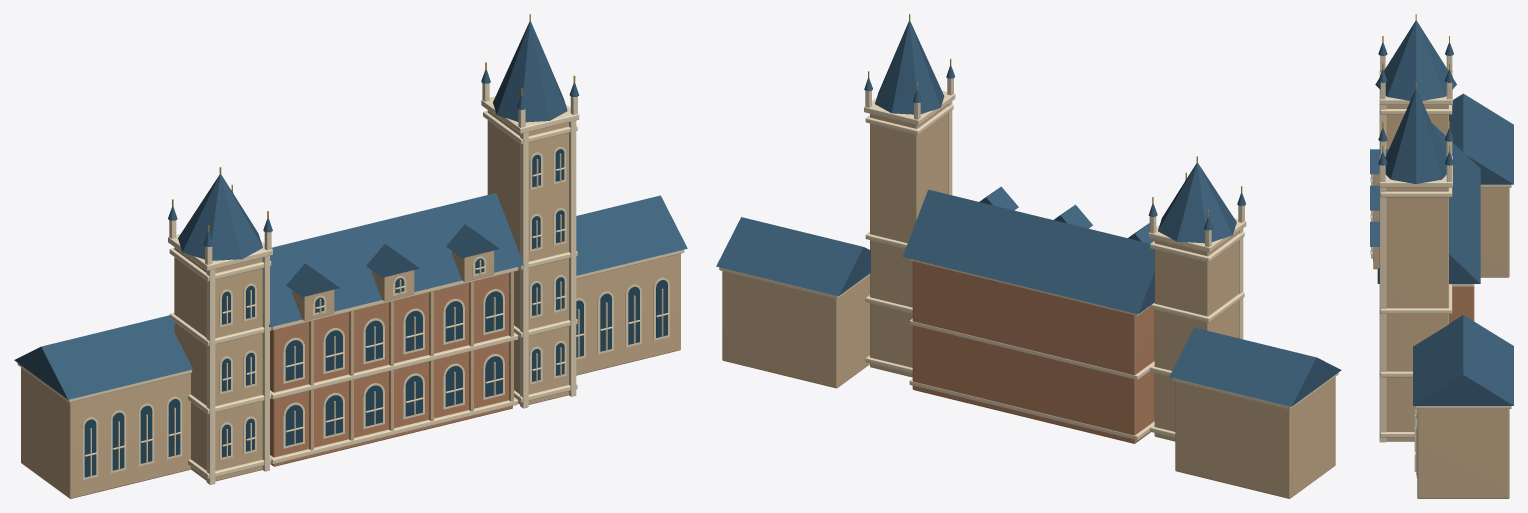
File: AcademicBackdrop.fbx
3 renders of one model, left to right at view 1: azimuth 30°, elevation 25°; view 2: azimuth 150°, elevation 25°; view 3: azimuth 270°, elevation 25°, orthographic. The views are drawn at different scales.
Visible parts, largest first — view 1: AcademicBackdrop.001; view 2: AcademicBackdrop.001; view 3: AcademicBackdrop.001.
Boxes of the visible parts, x1,y1,x2,y2 form: AcademicBackdrop.001: (14,14,687,498); AcademicBackdrop.001: (716,14,1341,498); AcademicBackdrop.001: (1370,14,1513,498).
Size of the model in its own units: 31 by 17.87 by 6.7.
